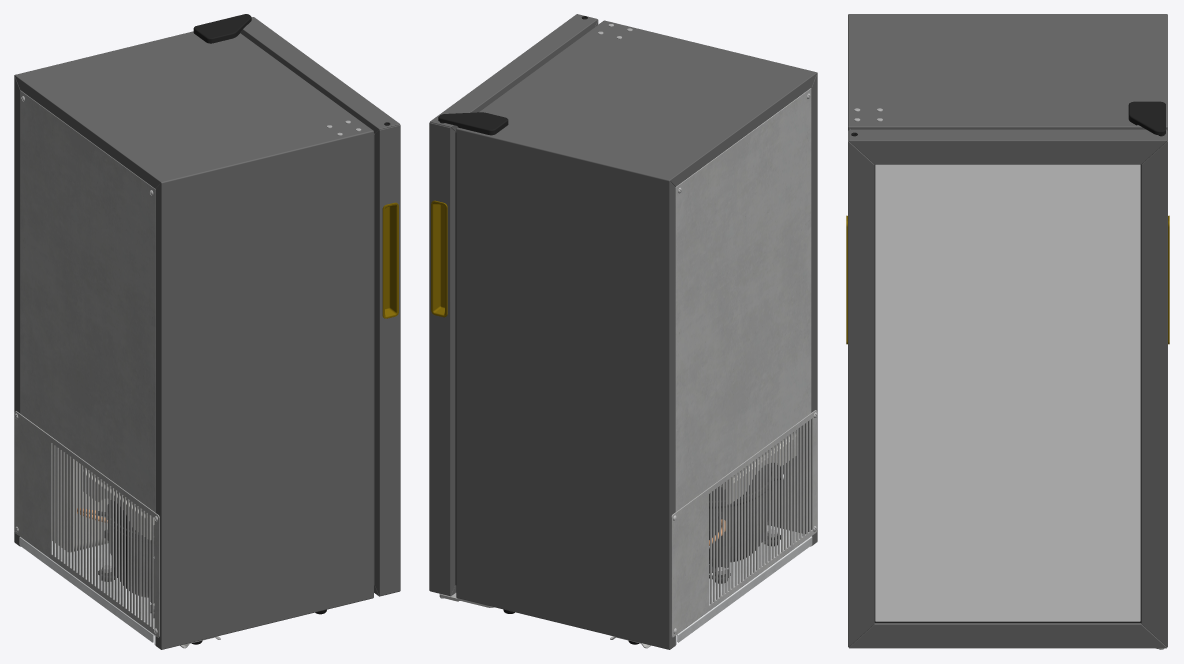
The model's file is facilityEquipment_beverageFridge_display_a01.glb.
3 renders of one model, left to right at view 1: azimuth 30°, elevation 25°; view 2: azimuth 150°, elevation 25°; view 3: azimuth 270°, elevation 25°, orthographic. The views are drawn at different scales.
Parts seen in each view (by area): view 1: body_01_mesh_00, door_01_mesh_00; view 2: body_01_mesh_00, door_01_mesh_00; view 3: doorGlass_01_mesh_00, door_01_mesh_00, body_01_mesh_00.
Boxes of the visible parts, box(x1,y1,x2,y2) form: body_01_mesh_00: box(14, 14, 373, 649); door_01_mesh_00: box(240, 17, 400, 596); body_01_mesh_00: box(438, 20, 817, 649); door_01_mesh_00: box(429, 14, 598, 596); doorGlass_01_mesh_00: box(875, 164, 1140, 621); door_01_mesh_00: box(846, 129, 1169, 648); body_01_mesh_00: box(848, 14, 1167, 649).
Bounding box in the file's own units: 0.4548 × 0.865 × 0.485.
13 materials, 6 textured.
